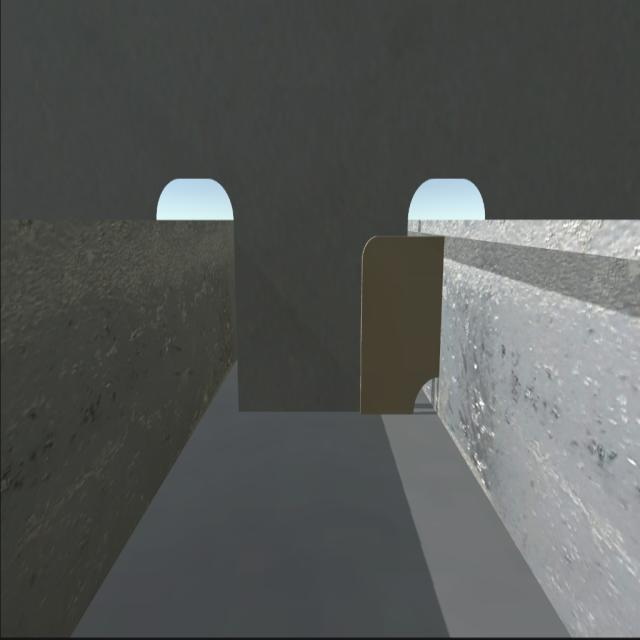fillet_hole: (405, 371, 440, 417)
fillet_yong_jeop_jang: (241, 405, 414, 424)
longi_yong_jeop_jang: (435, 230, 452, 388)
plate_CP05: (359, 235, 444, 412)
